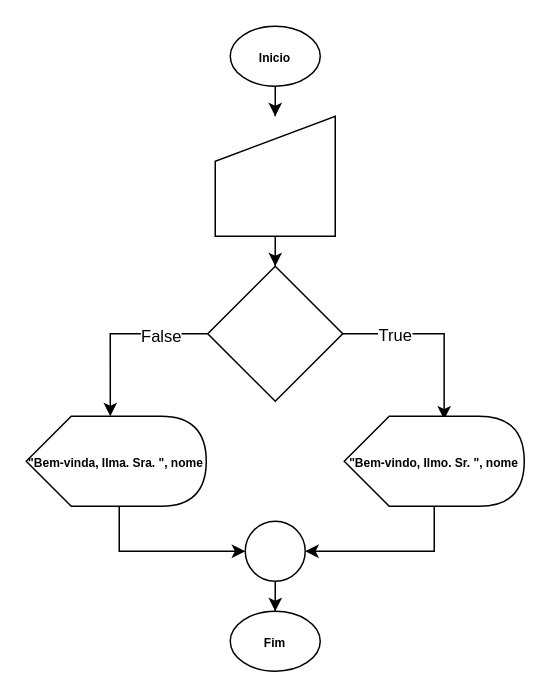
The diagram is 551 pixels wide and 698 high, and some of its shapes have lost their labels. The shapes that lost their labels are listed below. From the top down, each one's centre as x and y in pixels, then its label:
pixel 274 175: nome, sexo
pixel 274 333: sexo = "masculino"
